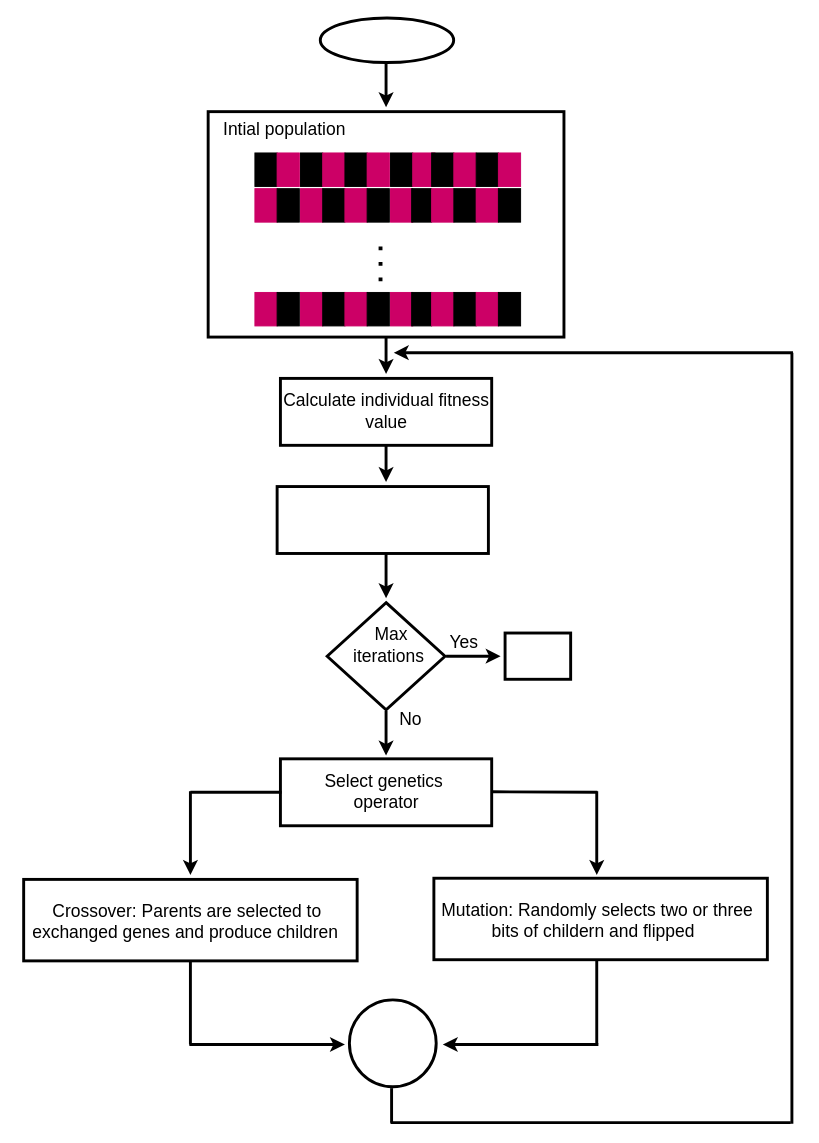
This 819x1143 diagram has some shape labels left out. The shapes that lost their labels are listed below. From the top down, each one's centre as x and y in pixels, then its label:
At point (386, 40): "Start".
At point (382, 519): "Selection".
At point (537, 655): "End".
